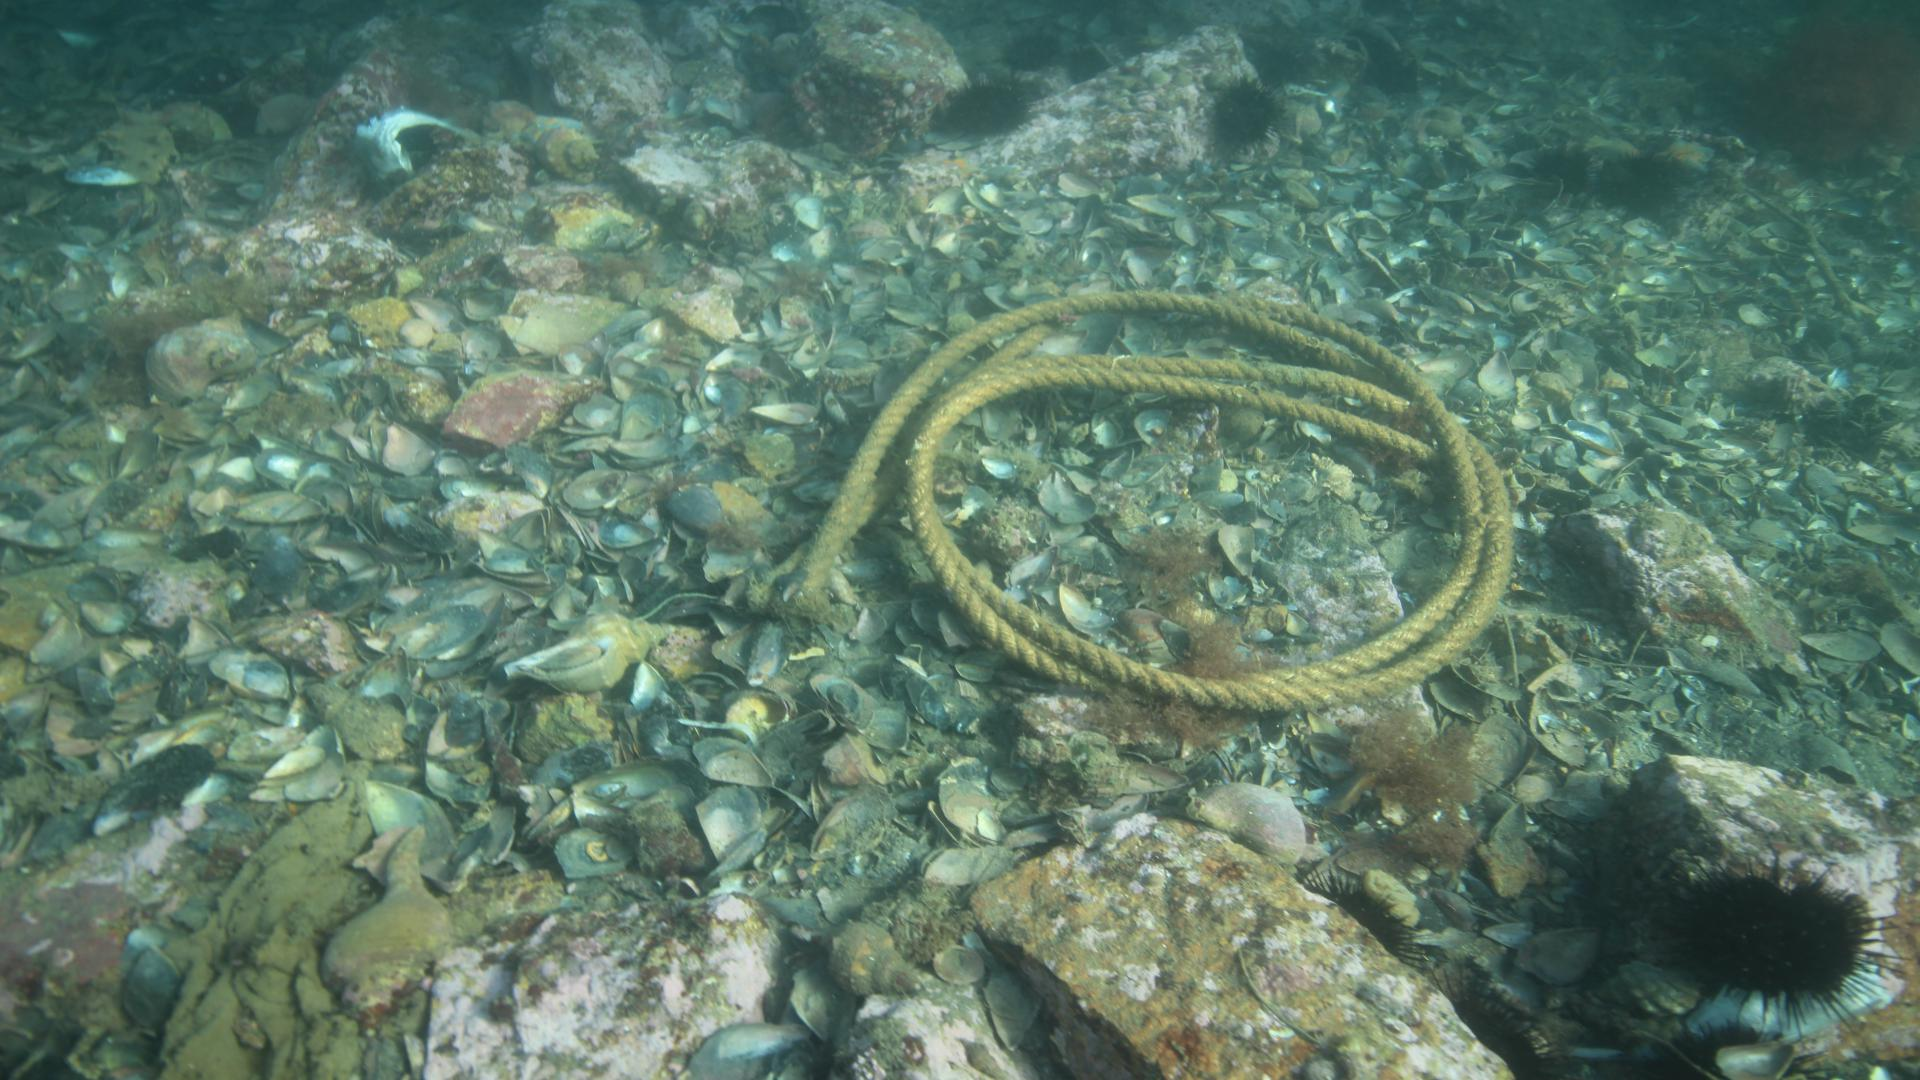bundle of ropes: (822, 284, 1524, 717)
